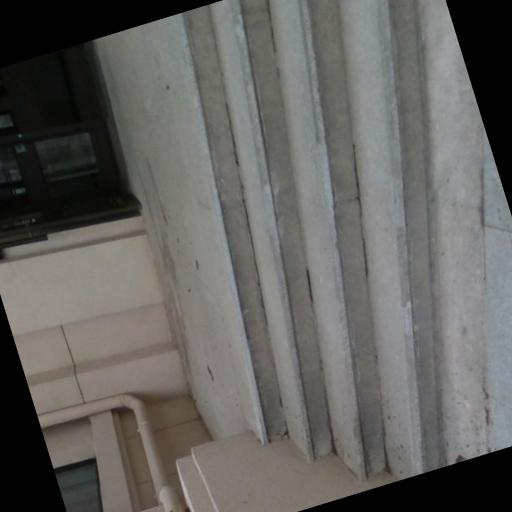stairs: (183, 0, 443, 479)
